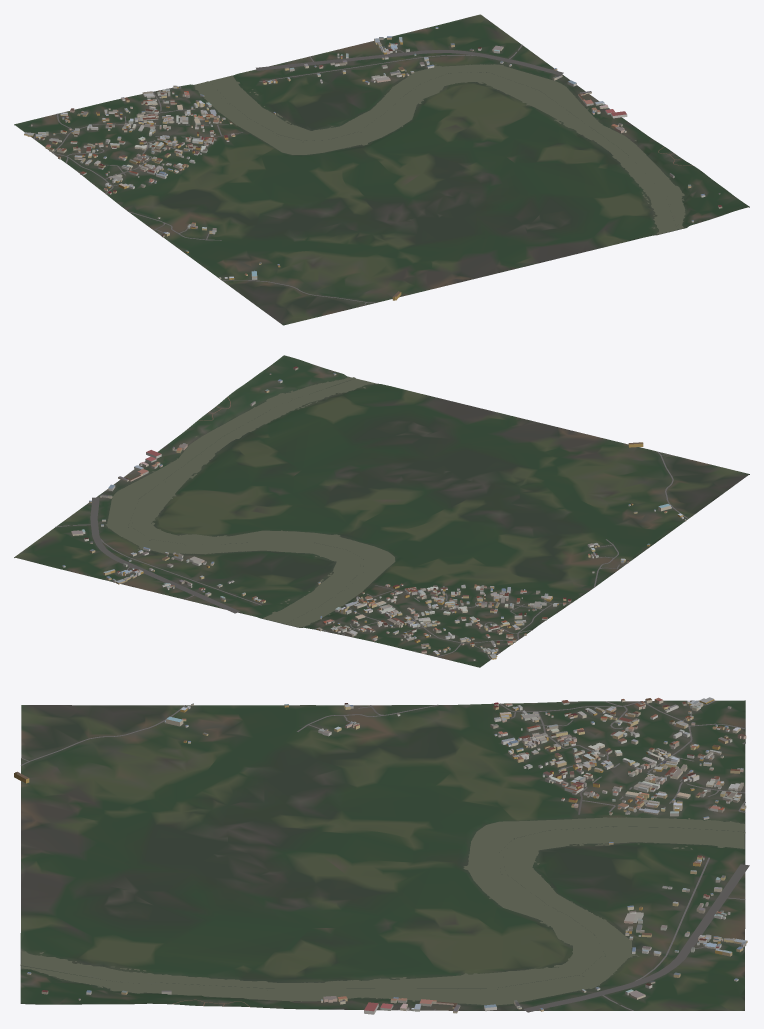
3 views of the same model, one above another, from view 1: azimuth 30°, elevation 25°; view 2: azimuth 150°, elevation 25°; view 3: azimuth 270°, elevation 25° (orthographic). The views are drawn at different scales.
Visible parts, largest first — view 1: ground, water, buildings, roads; view 2: ground, water, buildings, roads; view 3: ground, water, buildings, roads.
Boxes of the visible parts, x1,y1,x2,y2 form: ground: (14, 14, 749, 325); water: (194, 64, 685, 234); buildings: (24, 27, 722, 300); roads: (33, 44, 693, 305); ground: (14, 355, 749, 667); water: (105, 377, 395, 627); buildings: (62, 366, 686, 660); roads: (55, 396, 688, 659); ground: (20, 700, 745, 1010); water: (20, 817, 745, 1005); buildings: (14, 697, 747, 1014); roads: (21, 700, 749, 1012).
Bounding box in the file's own units: 1427 × 23.9 × 1423.
